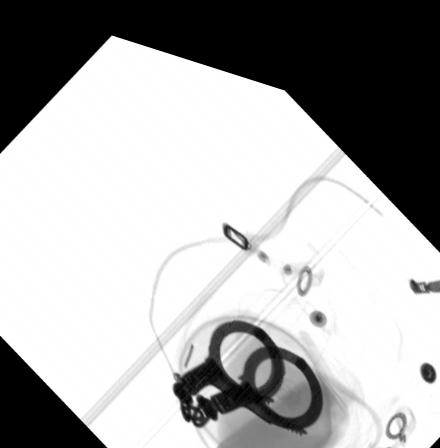HandCuffs: (169, 303, 327, 418)
